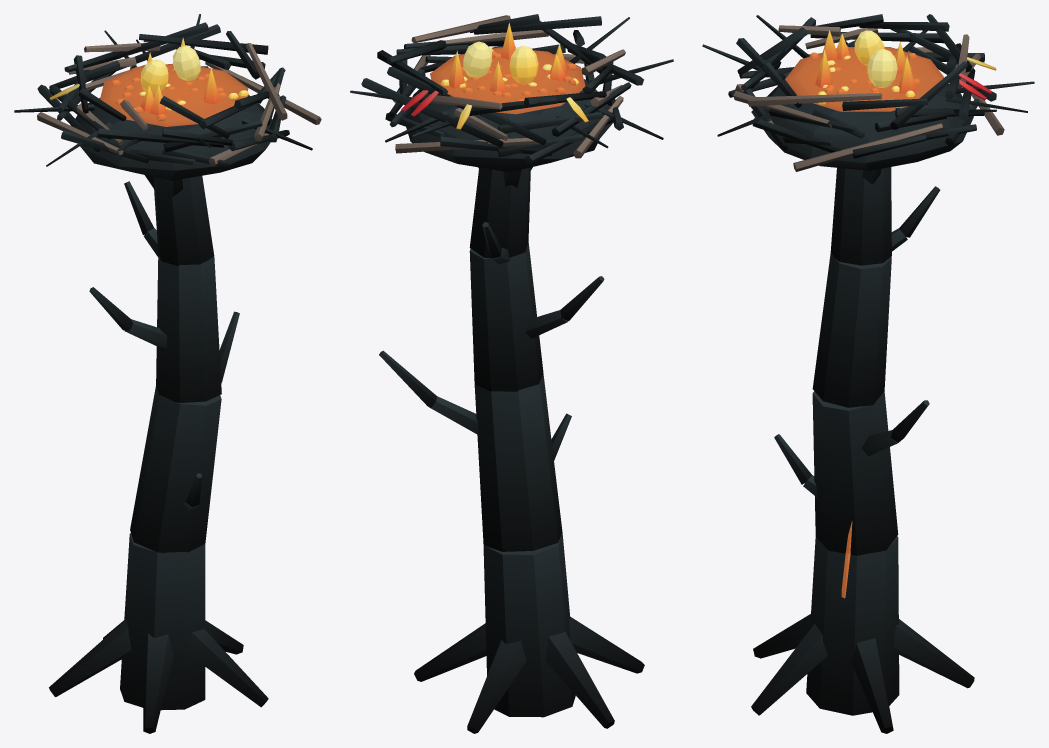
Rendered from firebird_nest.glb.
The picture shows the model from 3 angles, left to right: view 1: azimuth 30°, elevation 25°; view 2: azimuth 150°, elevation 25°; view 3: azimuth 270°, elevation 25°; orthographic projection. The views are drawn at different scales.
Visible parts, largest first — view 1: firebird_nest; view 2: firebird_nest; view 3: firebird_nest.
Boxes of the visible parts, x1,y1,x2,y2 form: firebird_nest: [14, 14, 321, 733]; firebird_nest: [350, 14, 673, 733]; firebird_nest: [702, 14, 1034, 733].
Size of the model in its own units: 3.64 by 8.66 by 3.92.
5 materials, 5 textured.
